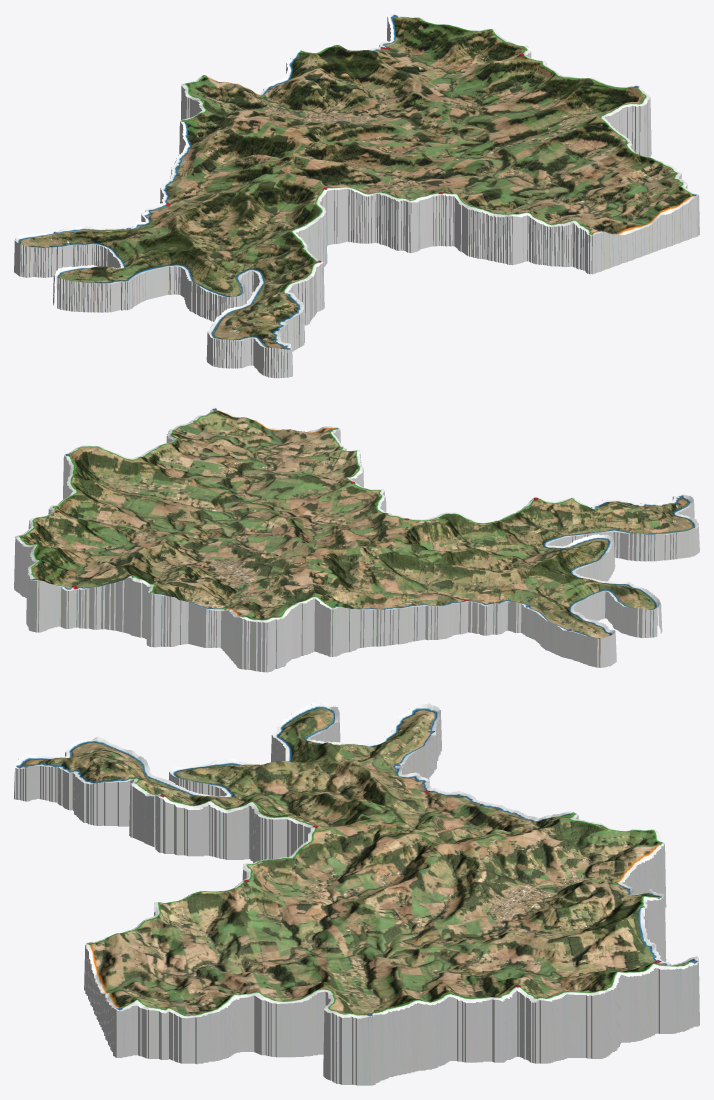
3 views of the same model, one above another, from view 1: azimuth 30°, elevation 25°; view 2: azimuth 150°, elevation 25°; view 3: azimuth 270°, elevation 25° (orthographic). The views are drawn at different scales.
Bounding box in the file's own units: 1 × 0.0952 × 0.8336.
Materials: 1 (1 with a texture image).
